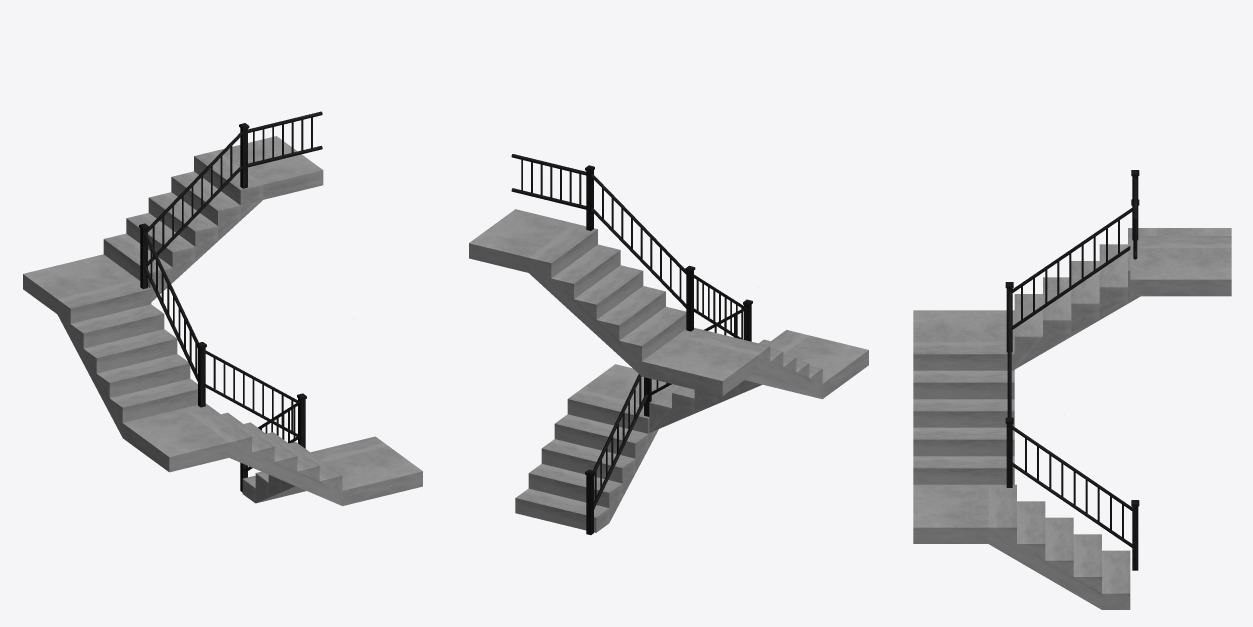
The model's file is staircase_top_A_textured_2.fbx.
The picture shows the model from 3 angles, left to right: view 1: azimuth 30°, elevation 25°; view 2: azimuth 150°, elevation 25°; view 3: azimuth 270°, elevation 25°; orthographic projection. The views are drawn at different scales.
Parts seen in each view (by area): view 1: stairs.002, stairs.003, stairs.001, stairs, raling.003, raling.002, raling.001, Stair Top Rail; view 2: stairs.003, stairs, stairs.002, stairs.001, raling.003, raling, Stair Top Rail, raling.002; view 3: stairs.001, stairs, stairs.002, stairs.003, raling, raling.002, raling.001, post.
Part boxes in pixels (x1=…): stairs.002: x1=23, y1=254, x2=197, y2=437; stairs.003: x1=103, y1=136, x2=323, y2=301; stairs.001: x1=122, y1=403, x2=342, y2=505; stairs: x1=242, y1=436, x2=422, y2=505; raling.003: x1=148, y1=131, x2=242, y2=265; raling.002: x1=144, y1=232, x2=198, y2=381; raling.001: x1=205, y1=350, x2=300, y2=438; Stair Top Rail: x1=248, y1=111, x2=322, y2=167; stairs.003: x1=469, y1=209, x2=686, y2=376; stairs: x1=515, y1=364, x2=673, y2=532; stairs.002: x1=642, y1=327, x2=822, y2=398; stairs.001: x1=649, y1=330, x2=868, y2=432; raling.003: x1=591, y1=174, x2=686, y2=308; raling: x1=593, y1=374, x2=647, y2=509; Stair Top Rail: x1=511, y1=154, x2=586, y2=209; raling.002: x1=694, y1=274, x2=747, y2=339; stairs.001: x1=913, y1=310, x2=1014, y2=484; stairs: x1=913, y1=484, x2=1130, y2=609; stairs.002: x1=1014, y1=228, x2=1231, y2=369; stairs.003: x1=1130, y1=236, x2=1231, y2=296; raling: x1=1012, y1=426, x2=1132, y2=547; raling.002: x1=1012, y1=208, x2=1132, y2=329; raling.001: x1=1007, y1=291, x2=1011, y2=417; post: x1=1132, y1=506, x2=1138, y2=570.
Size of the model in its own units: 328 by 500 by 328.
Materials: 3 (3 with a texture image).
